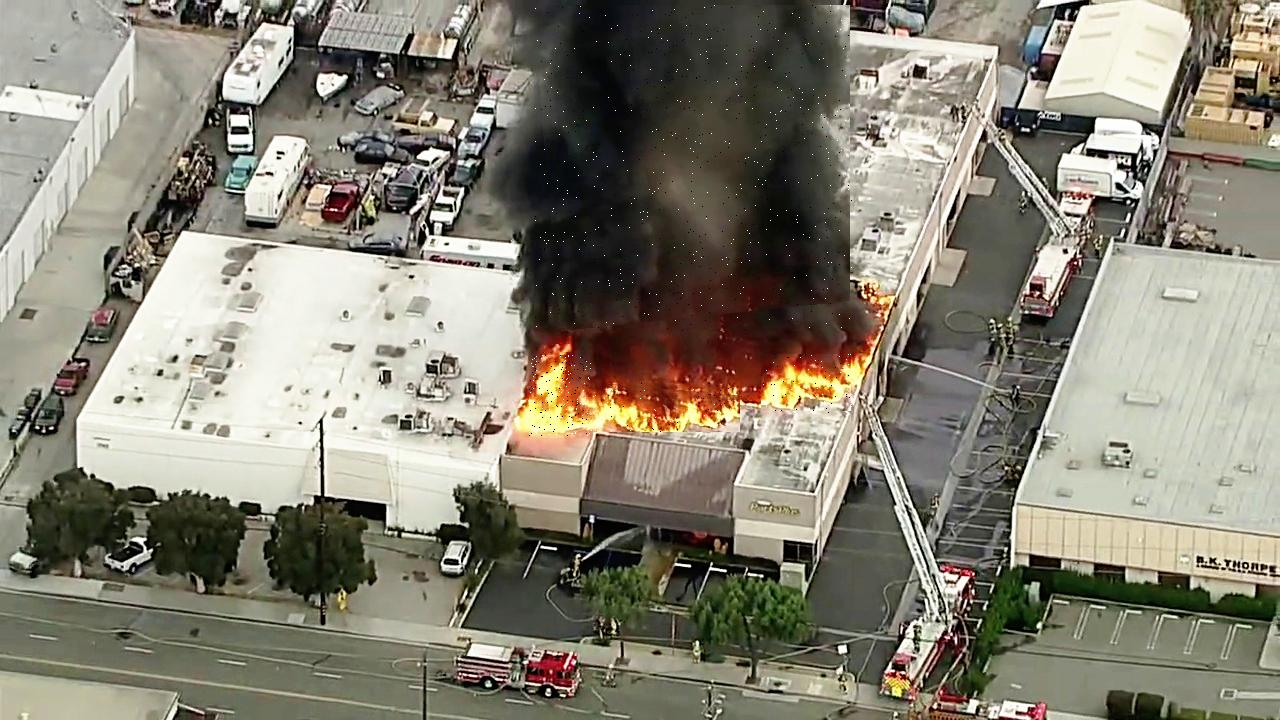fire: (589, 382, 740, 432), (762, 355, 854, 414), (529, 355, 591, 436)
smoke: (535, 5, 853, 331)
